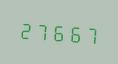seven: (34, 18, 49, 43), (82, 21, 97, 46)
six: (50, 19, 65, 44), (66, 20, 81, 45)
two: (18, 17, 33, 42)
